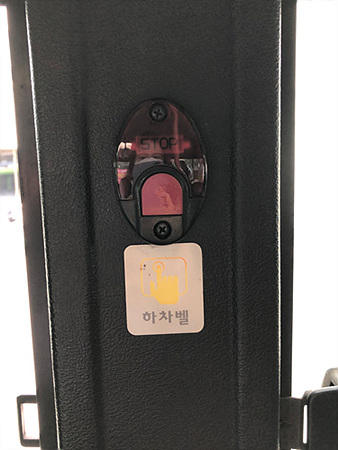bell: (111, 95, 210, 246)
